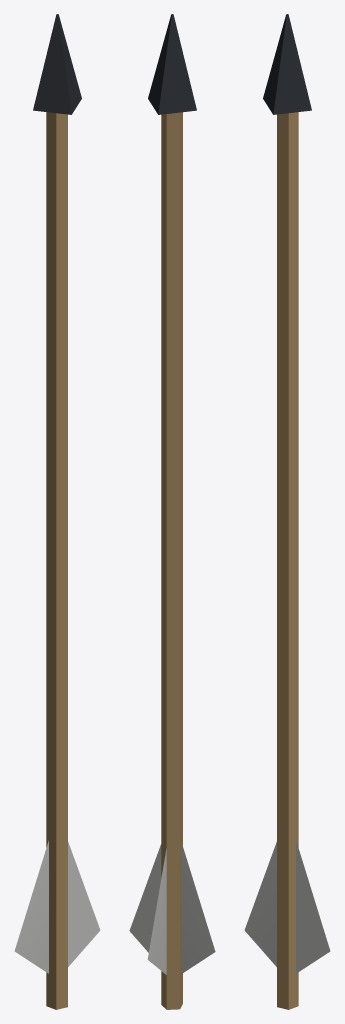
Rendered from Arrow.fbx.
3 renders of one model, left to right at view 1: azimuth 30°, elevation 25°; view 2: azimuth 150°, elevation 25°; view 3: azimuth 330°, elevation 25°, orthographic.
Parts seen in each view (by area): view 1: Arrow; view 2: Arrow; view 3: Arrow.
Boxes of the visible parts, left/top/right/bottom form: Arrow: left=14, top=14, right=100, bottom=1009; Arrow: left=129, top=14, right=215, bottom=1009; Arrow: left=244, top=14, right=330, bottom=1009.
Size of the model in its own units: 0.07 by 0.77 by 0.055.
